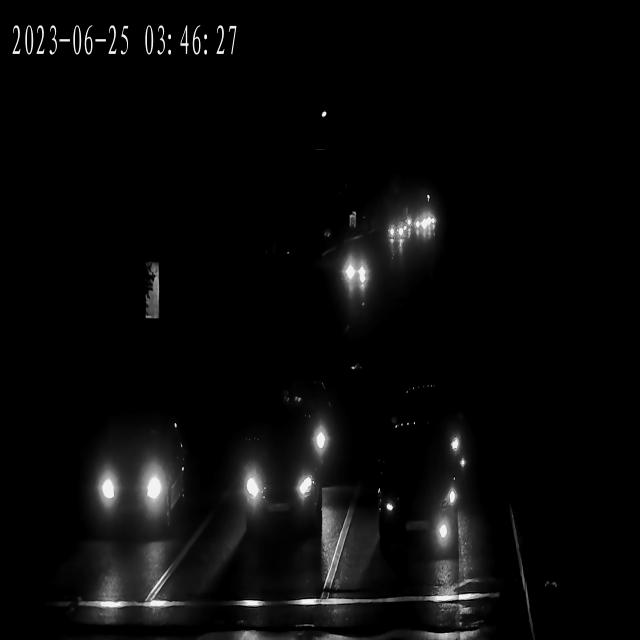Car: (74, 416, 187, 544), (226, 440, 323, 536), (374, 467, 463, 562), (391, 386, 468, 480), (276, 378, 344, 465), (338, 254, 373, 292), (386, 226, 406, 243), (418, 218, 436, 236), (404, 212, 421, 231)
